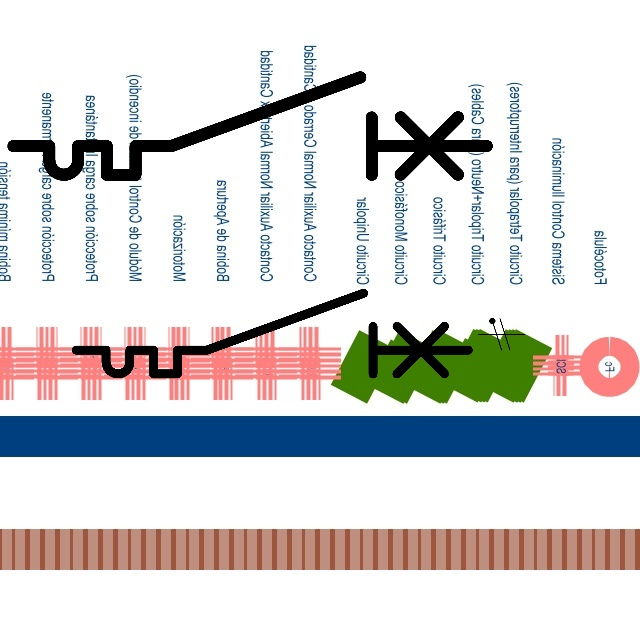interruptor_termomagnetico: (1, 65, 499, 187), (66, 283, 478, 384)
